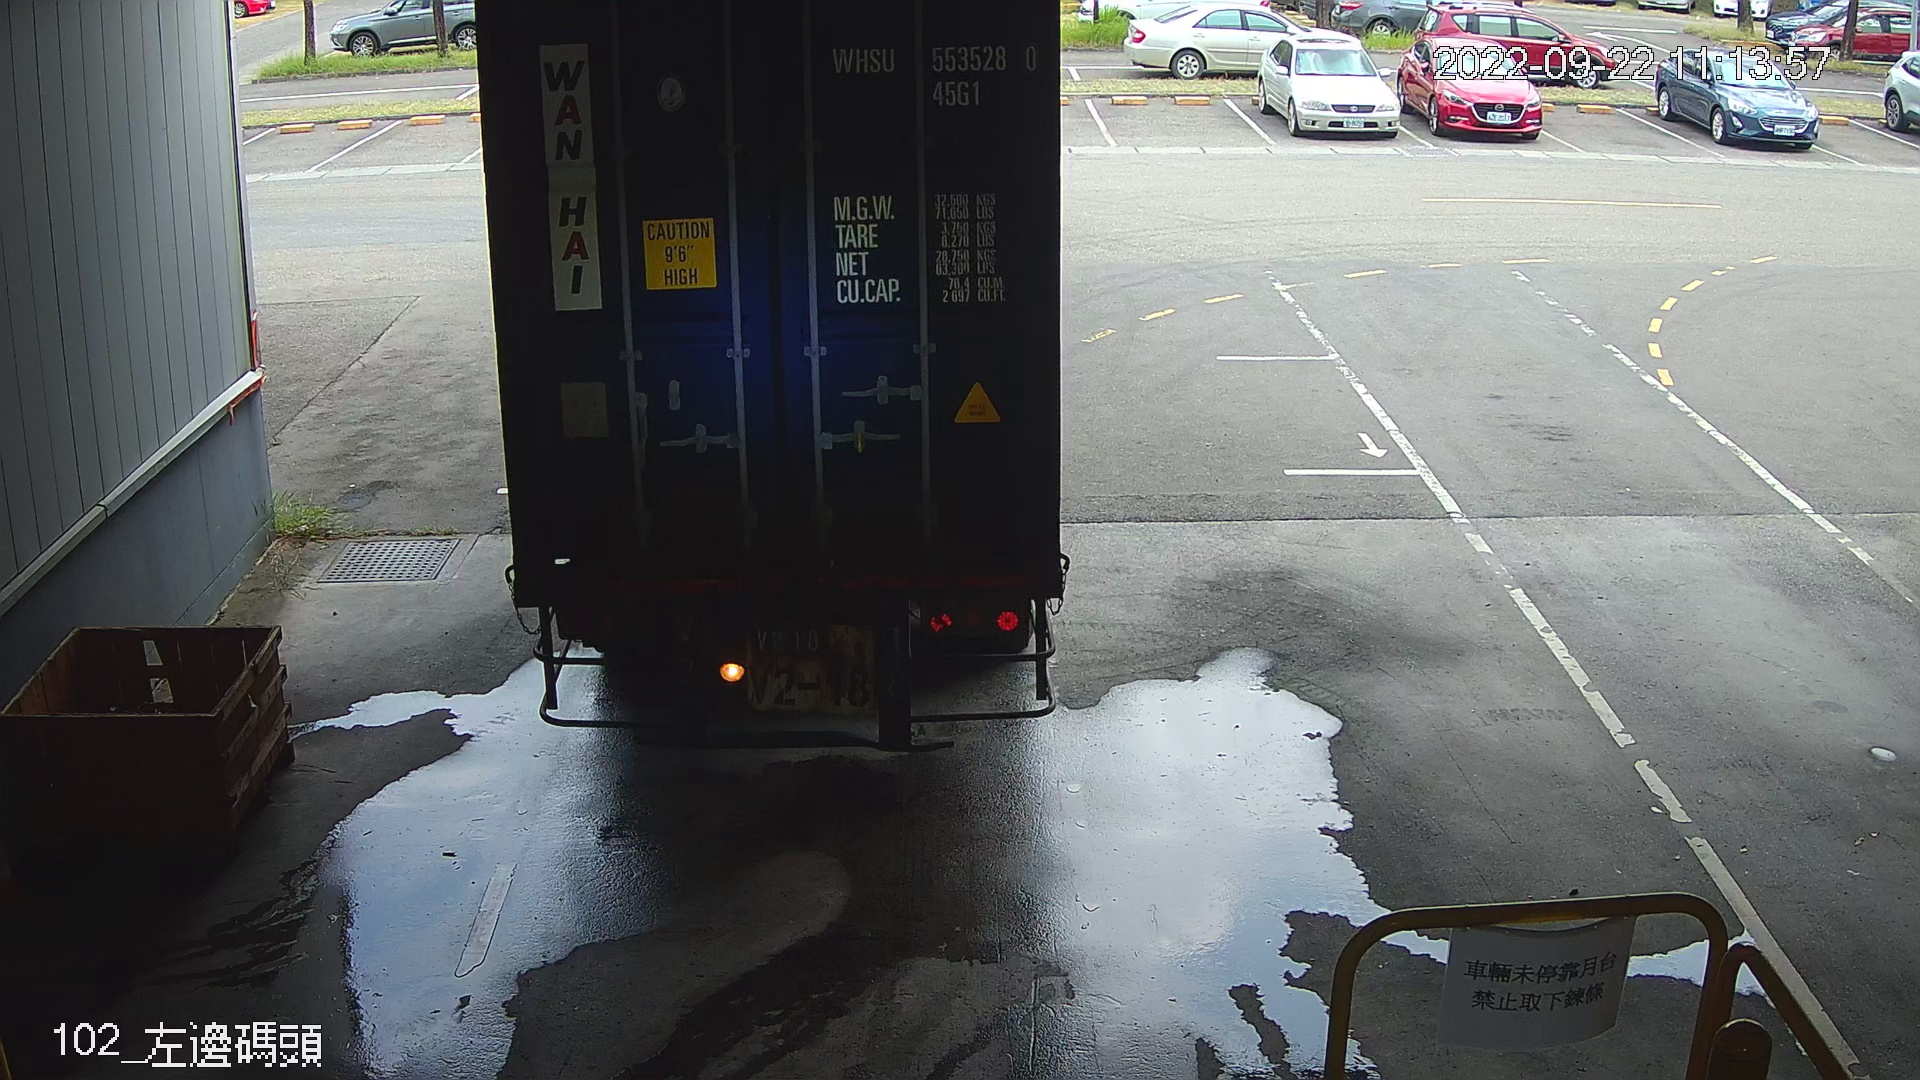container: (971, 148, 1089, 200)
